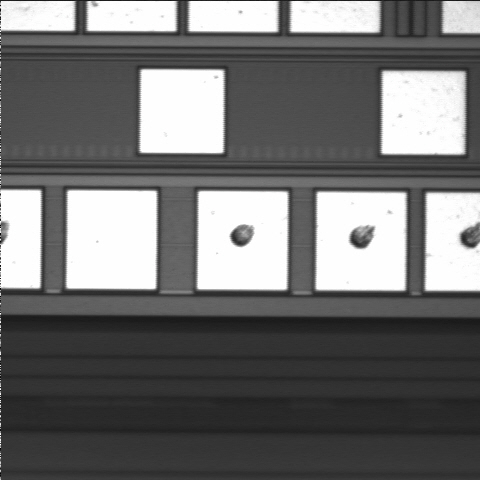pad: (66, 190, 157, 289), (197, 191, 288, 290), (316, 192, 406, 291), (140, 69, 224, 153), (382, 71, 465, 155)
